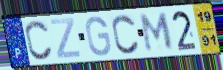2: (171, 9, 198, 52)
C: (24, 19, 55, 62), (111, 13, 141, 56)
G: (85, 15, 113, 58)
M: (139, 11, 175, 53)
Z: (49, 17, 82, 60)
